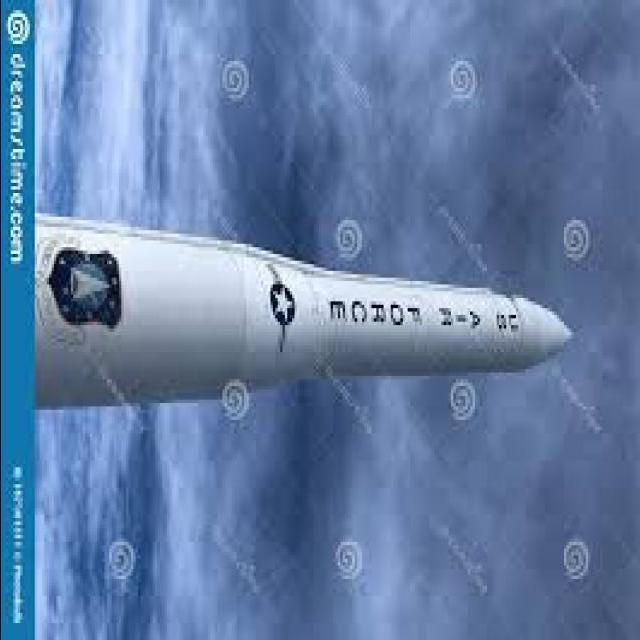Missile: (36, 194, 581, 426)
